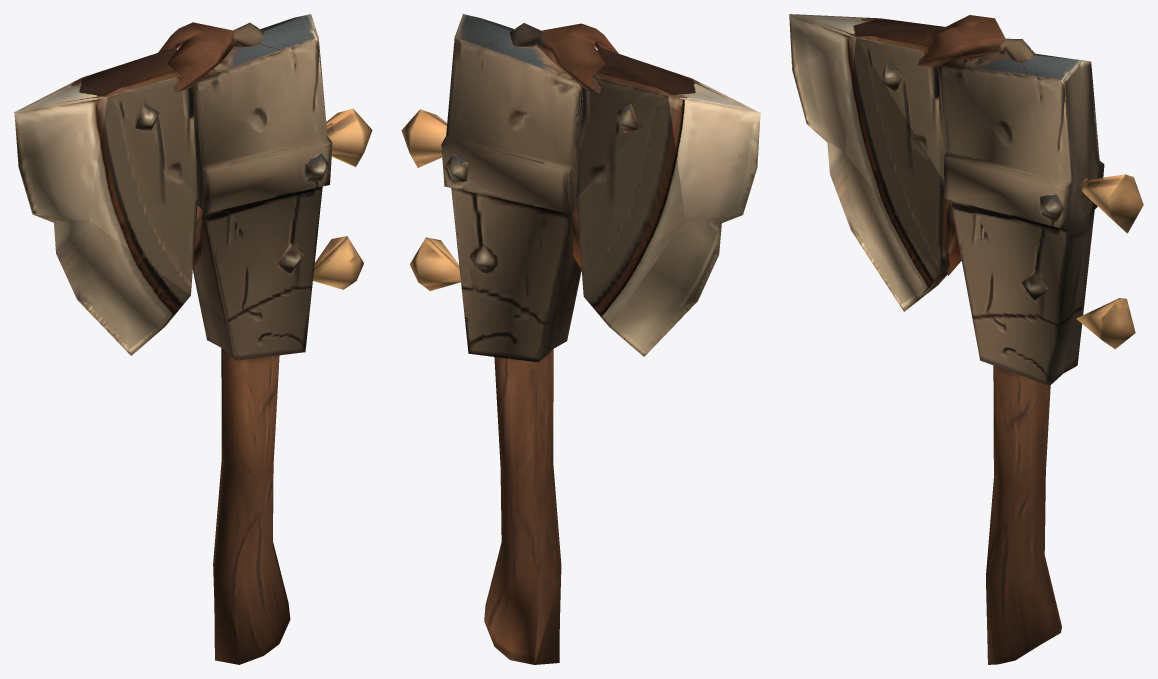
The model's file is Meshy_AI_Ironwood_War_Axe_0717151259_texture.fbx.
3 views of the same model, side by side, from view 1: azimuth 30°, elevation 25°; view 2: azimuth 150°, elevation 25°; view 3: azimuth 330°, elevation 25° (orthographic).
Visible parts, largest first — view 1: Mesh_0; view 2: Mesh_0; view 3: Mesh_0.
Part boxes in pixels (left/top/right/bottom): Mesh_0: left=14, top=14, right=372, bottom=664; Mesh_0: left=401, top=14, right=760, bottom=664; Mesh_0: left=789, top=14, right=1143, bottom=664.
Size of the model in its own units: 59.18 by 99.8 by 13.48.
Materials: 1 (1 with a texture image).
